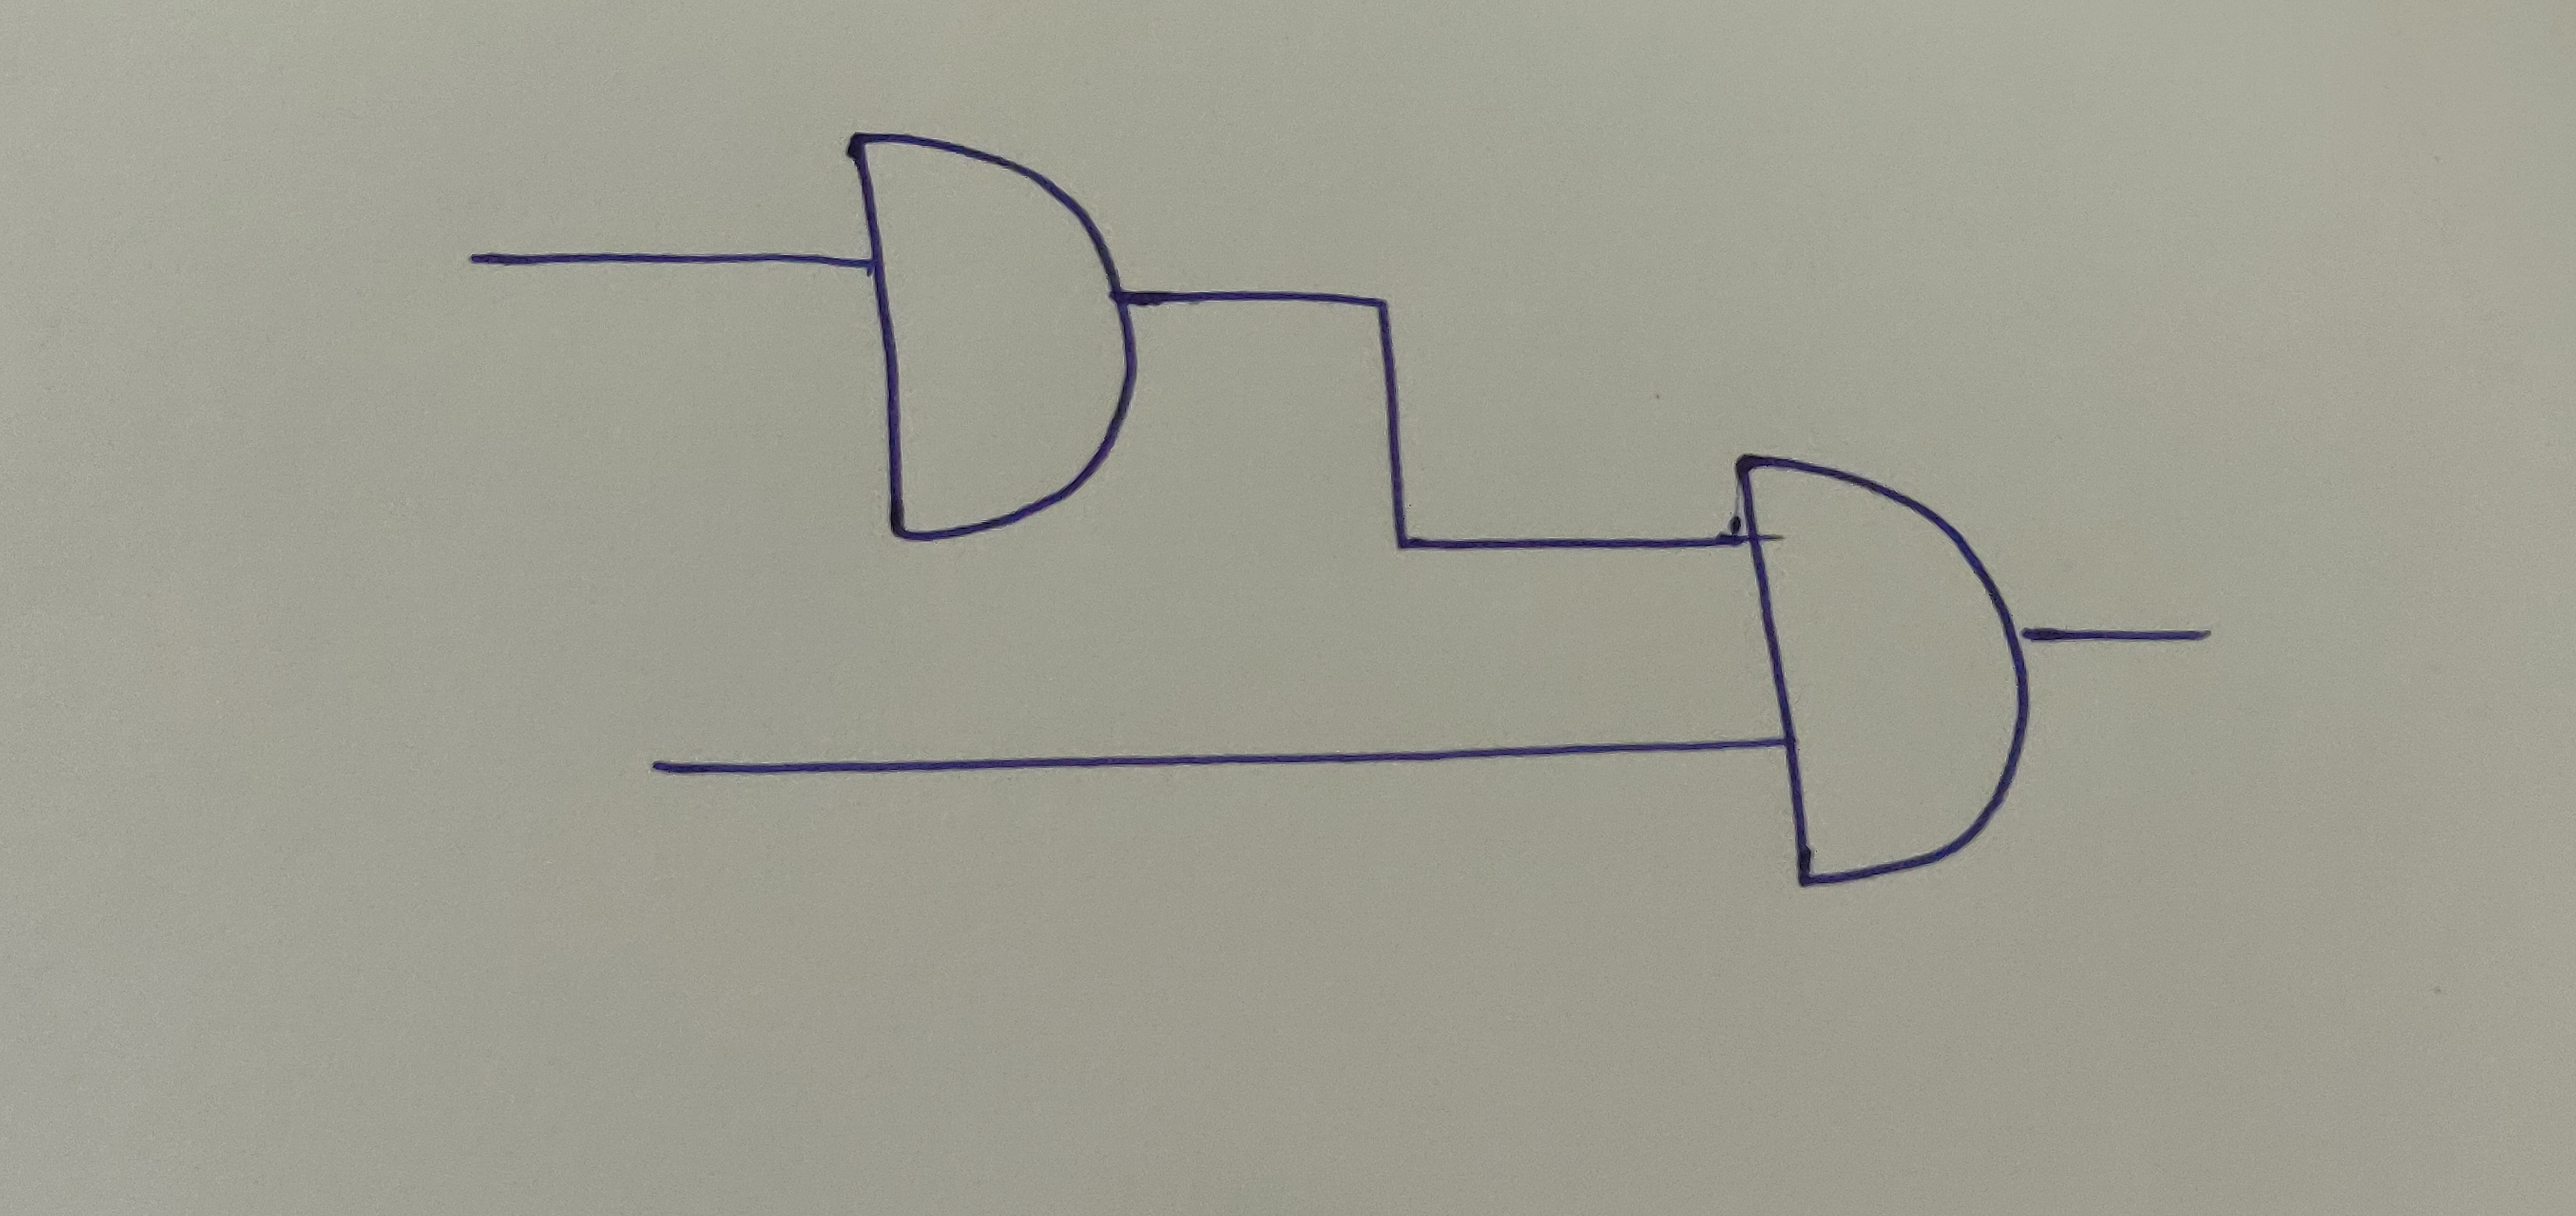and: (1732, 445, 2039, 886), (848, 128, 1140, 541)
